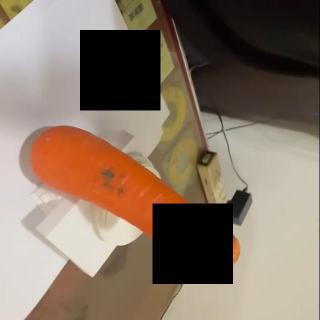carrot: (28, 124, 242, 268)
